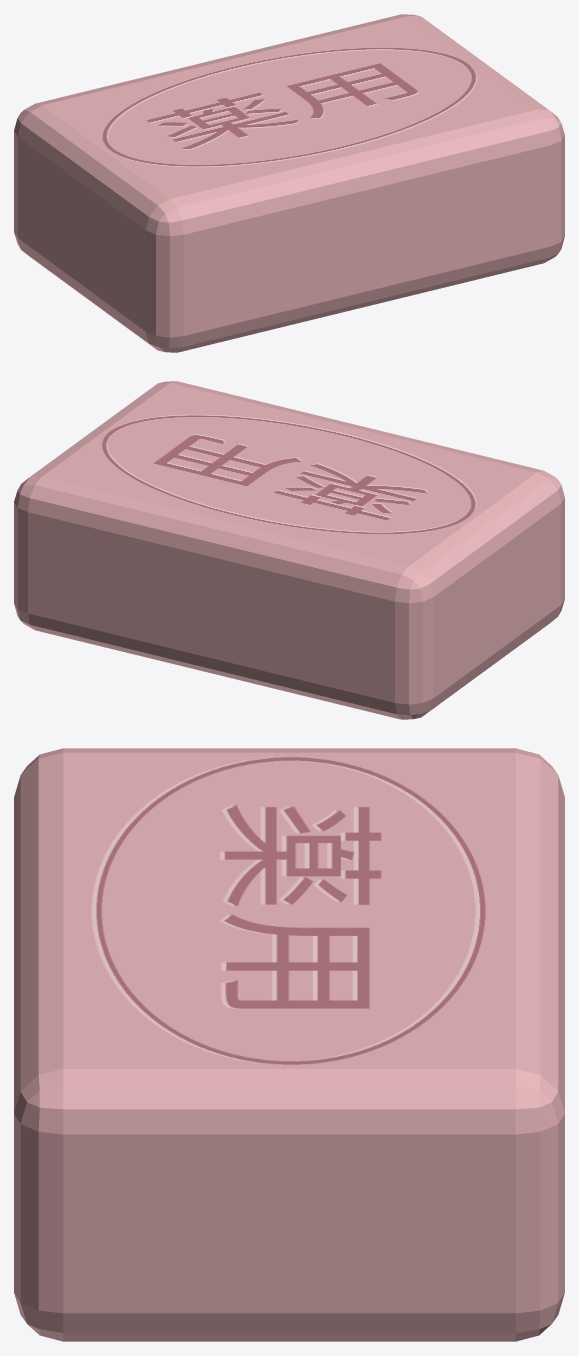
Rendered from 10_Stamped_Soap.fbx.
3 views of the same model, one above another, from view 1: azimuth 30°, elevation 25°; view 2: azimuth 150°, elevation 25°; view 3: azimuth 270°, elevation 25° (orthographic). The views are drawn at different scales.
Parts seen in each view (by area): view 1: 10_Stamped_Soap_Mesh; view 2: 10_Stamped_Soap_Mesh; view 3: 10_Stamped_Soap_Mesh.
Boxes of the visible parts, left/top/right/bottom form: 10_Stamped_Soap_Mesh: left=14, top=14, right=564, bottom=352; 10_Stamped_Soap_Mesh: left=14, top=381, right=564, bottom=719; 10_Stamped_Soap_Mesh: left=14, top=748, right=564, bottom=1341.
Bounding box in the file's own units: 10.3 × 3.6 × 6.7.
Materials: 1 (1 with a texture image).
